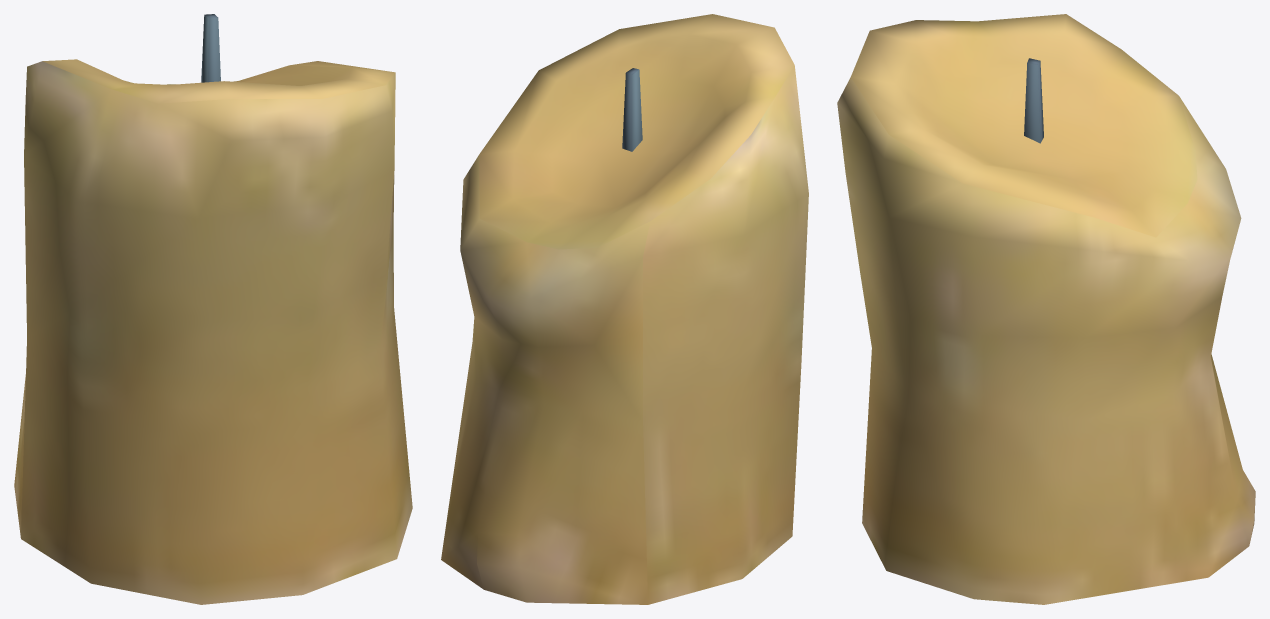
The model's file is candle-1.glb.
The picture shows the model from 3 angles, left to right: view 1: azimuth 30°, elevation 25°; view 2: azimuth 150°, elevation 25°; view 3: azimuth 270°, elevation 25°; orthographic projection. The views are drawn at different scales.
Visible parts, largest first — view 1: Candle_1; view 2: Candle_1; view 3: Candle_1.
Part boxes in pixels (left/top/right/bottom): Candle_1: left=14, top=14, right=412, bottom=604; Candle_1: left=441, top=14, right=808, bottom=604; Candle_1: left=837, top=14, right=1255, bottom=604.
Size of the model in its own units: 0.0939 by 0.132 by 0.1079.
1 material, 1 textured.
